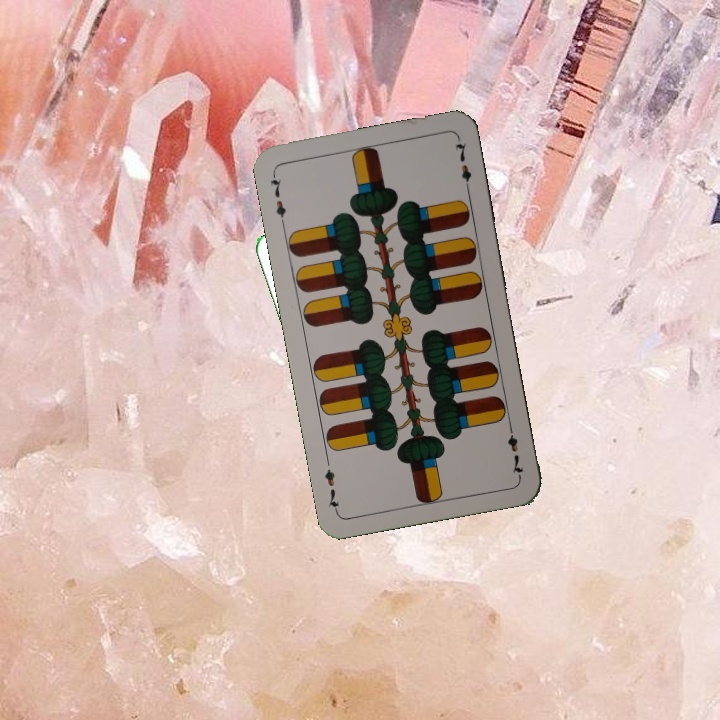E7: (503, 420, 526, 479), (266, 169, 289, 228)
